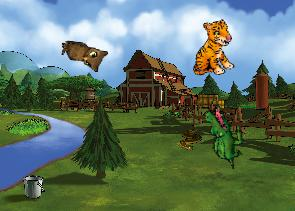crocodile: (190, 102, 257, 170)
owl: (58, 40, 108, 73)
tiger: (184, 18, 239, 80)
